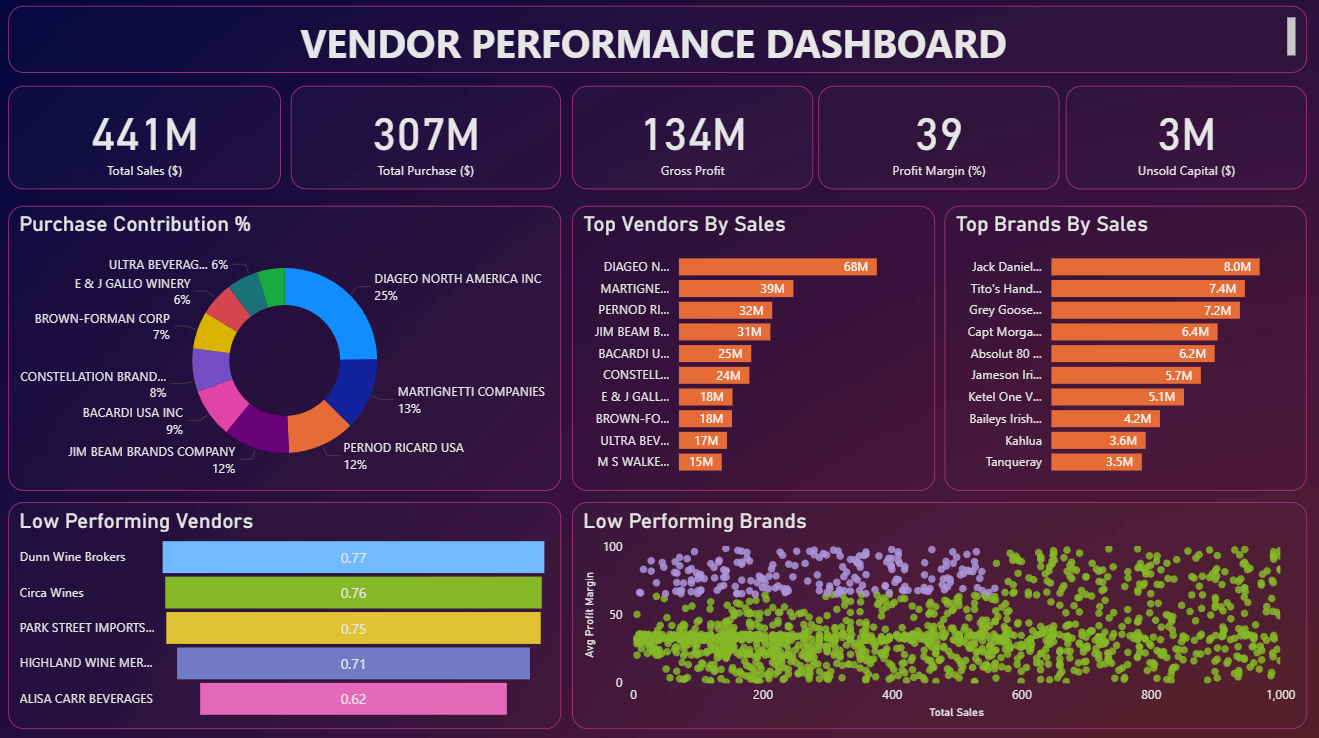

The page's visual inventory and layout, read from the dashboard file:
{"tool":"powerbi","page":{"name":"Page 1","canvas":[1280,720],"ordinal":0},"visuals":[{"type":"card","fields":{"Values":["Sum(vendor_sales_summary.TotalSalesDollars)"]},"box":[10.9,85.7,263,100.1],"z":0},{"type":"card","fields":{"Values":["Sum(vendor_sales_summary.TotalPurchaseDollars)"]},"box":[283.5,85.7,260.6,100.1],"z":1000},{"type":"card","fields":{"Values":["Sum(vendor_sales_summary.GrossProfit)"]},"box":[555,85.7,233,100.1],"z":2000},{"type":"card","fields":{"Values":["Avg(vendor_sales_summary.ProfitMargin)"]},"box":[792.6,85.7,232.8,100.1],"z":3000},{"type":"card","fields":{"Values":["Sum(vendor_sales_summary.Unsold Capital)"]},"box":[1031.5,85.7,233,100.1],"z":4000},{"type":"donutChart","title":"Purchase Contribution %","fields":{"Y":["Sum(PurchaseContribution.PurchaseContribution%)"],"Category":["PurchaseContribution.VendorName"]},"box":[10.9,201.5,533.2,275.1],"z":5000},{"type":"barChart","title":"Top Vendors By Sales","fields":{"Category":["vendor_sales_summary.VendorName"],"Y":["Sum(vendor_sales_summary.TotalSalesDollars)"]},"box":[555,201.5,350,275.1],"z":6000},{"type":"barChart","title":"Top Brands By Sales","fields":{"Category":["vendor_sales_summary.Description"],"Y":["Sum(vendor_sales_summary.TotalSalesDollars)"]},"box":[914.5,201.5,349.9,275.1],"z":7000},{"type":"funnel","title":"Low Performing Vendors","fields":{"Category":["LowTurnoverVendor.VendorName"],"Y":["Sum(LowTurnoverVendor.AvgTurnOver)"]},"box":[10.9,487.4,533.2,219.6],"z":8000},{"type":"scatterChart","title":"Low Performing Brands ","fields":{"Category":["BrandPerformance.Description"],"X":["Sum(BrandPerformance.TotalSales)"],"Y":["Sum(BrandPerformance.AvgProfitMargin)"],"Series":["BrandPerformance.TargetBrand"]},"box":[555,487.4,709.4,219.6],"z":9000},{"type":"textbox","box":[10.9,8.4,1253.5,65.1],"z":10000}]}

Visuals, with their boxes in screenshot pixels (x1, y1, x2, y2), scaled from the page's 1280x720 canvas onto the 1319x738 screenshot:
card - Sum(vendor_sales_summary.TotalSalesDollars): crop(11, 88, 282, 190)
card - Sum(vendor_sales_summary.TotalPurchaseDollars): crop(292, 88, 561, 190)
card - Sum(vendor_sales_summary.GrossProfit): crop(572, 88, 812, 190)
card - Avg(vendor_sales_summary.ProfitMargin): crop(817, 88, 1057, 190)
card - Sum(vendor_sales_summary.Unsold Capital): crop(1063, 88, 1303, 190)
"Purchase Contribution %" donutChart: crop(11, 207, 561, 489)
"Top Vendors By Sales" barChart: crop(572, 207, 933, 489)
"Top Brands By Sales" barChart: crop(942, 207, 1303, 489)
"Low Performing Vendors" funnel: crop(11, 500, 561, 725)
"Low Performing Brands " scatterChart: crop(572, 500, 1303, 725)
textbox: crop(11, 9, 1303, 75)
